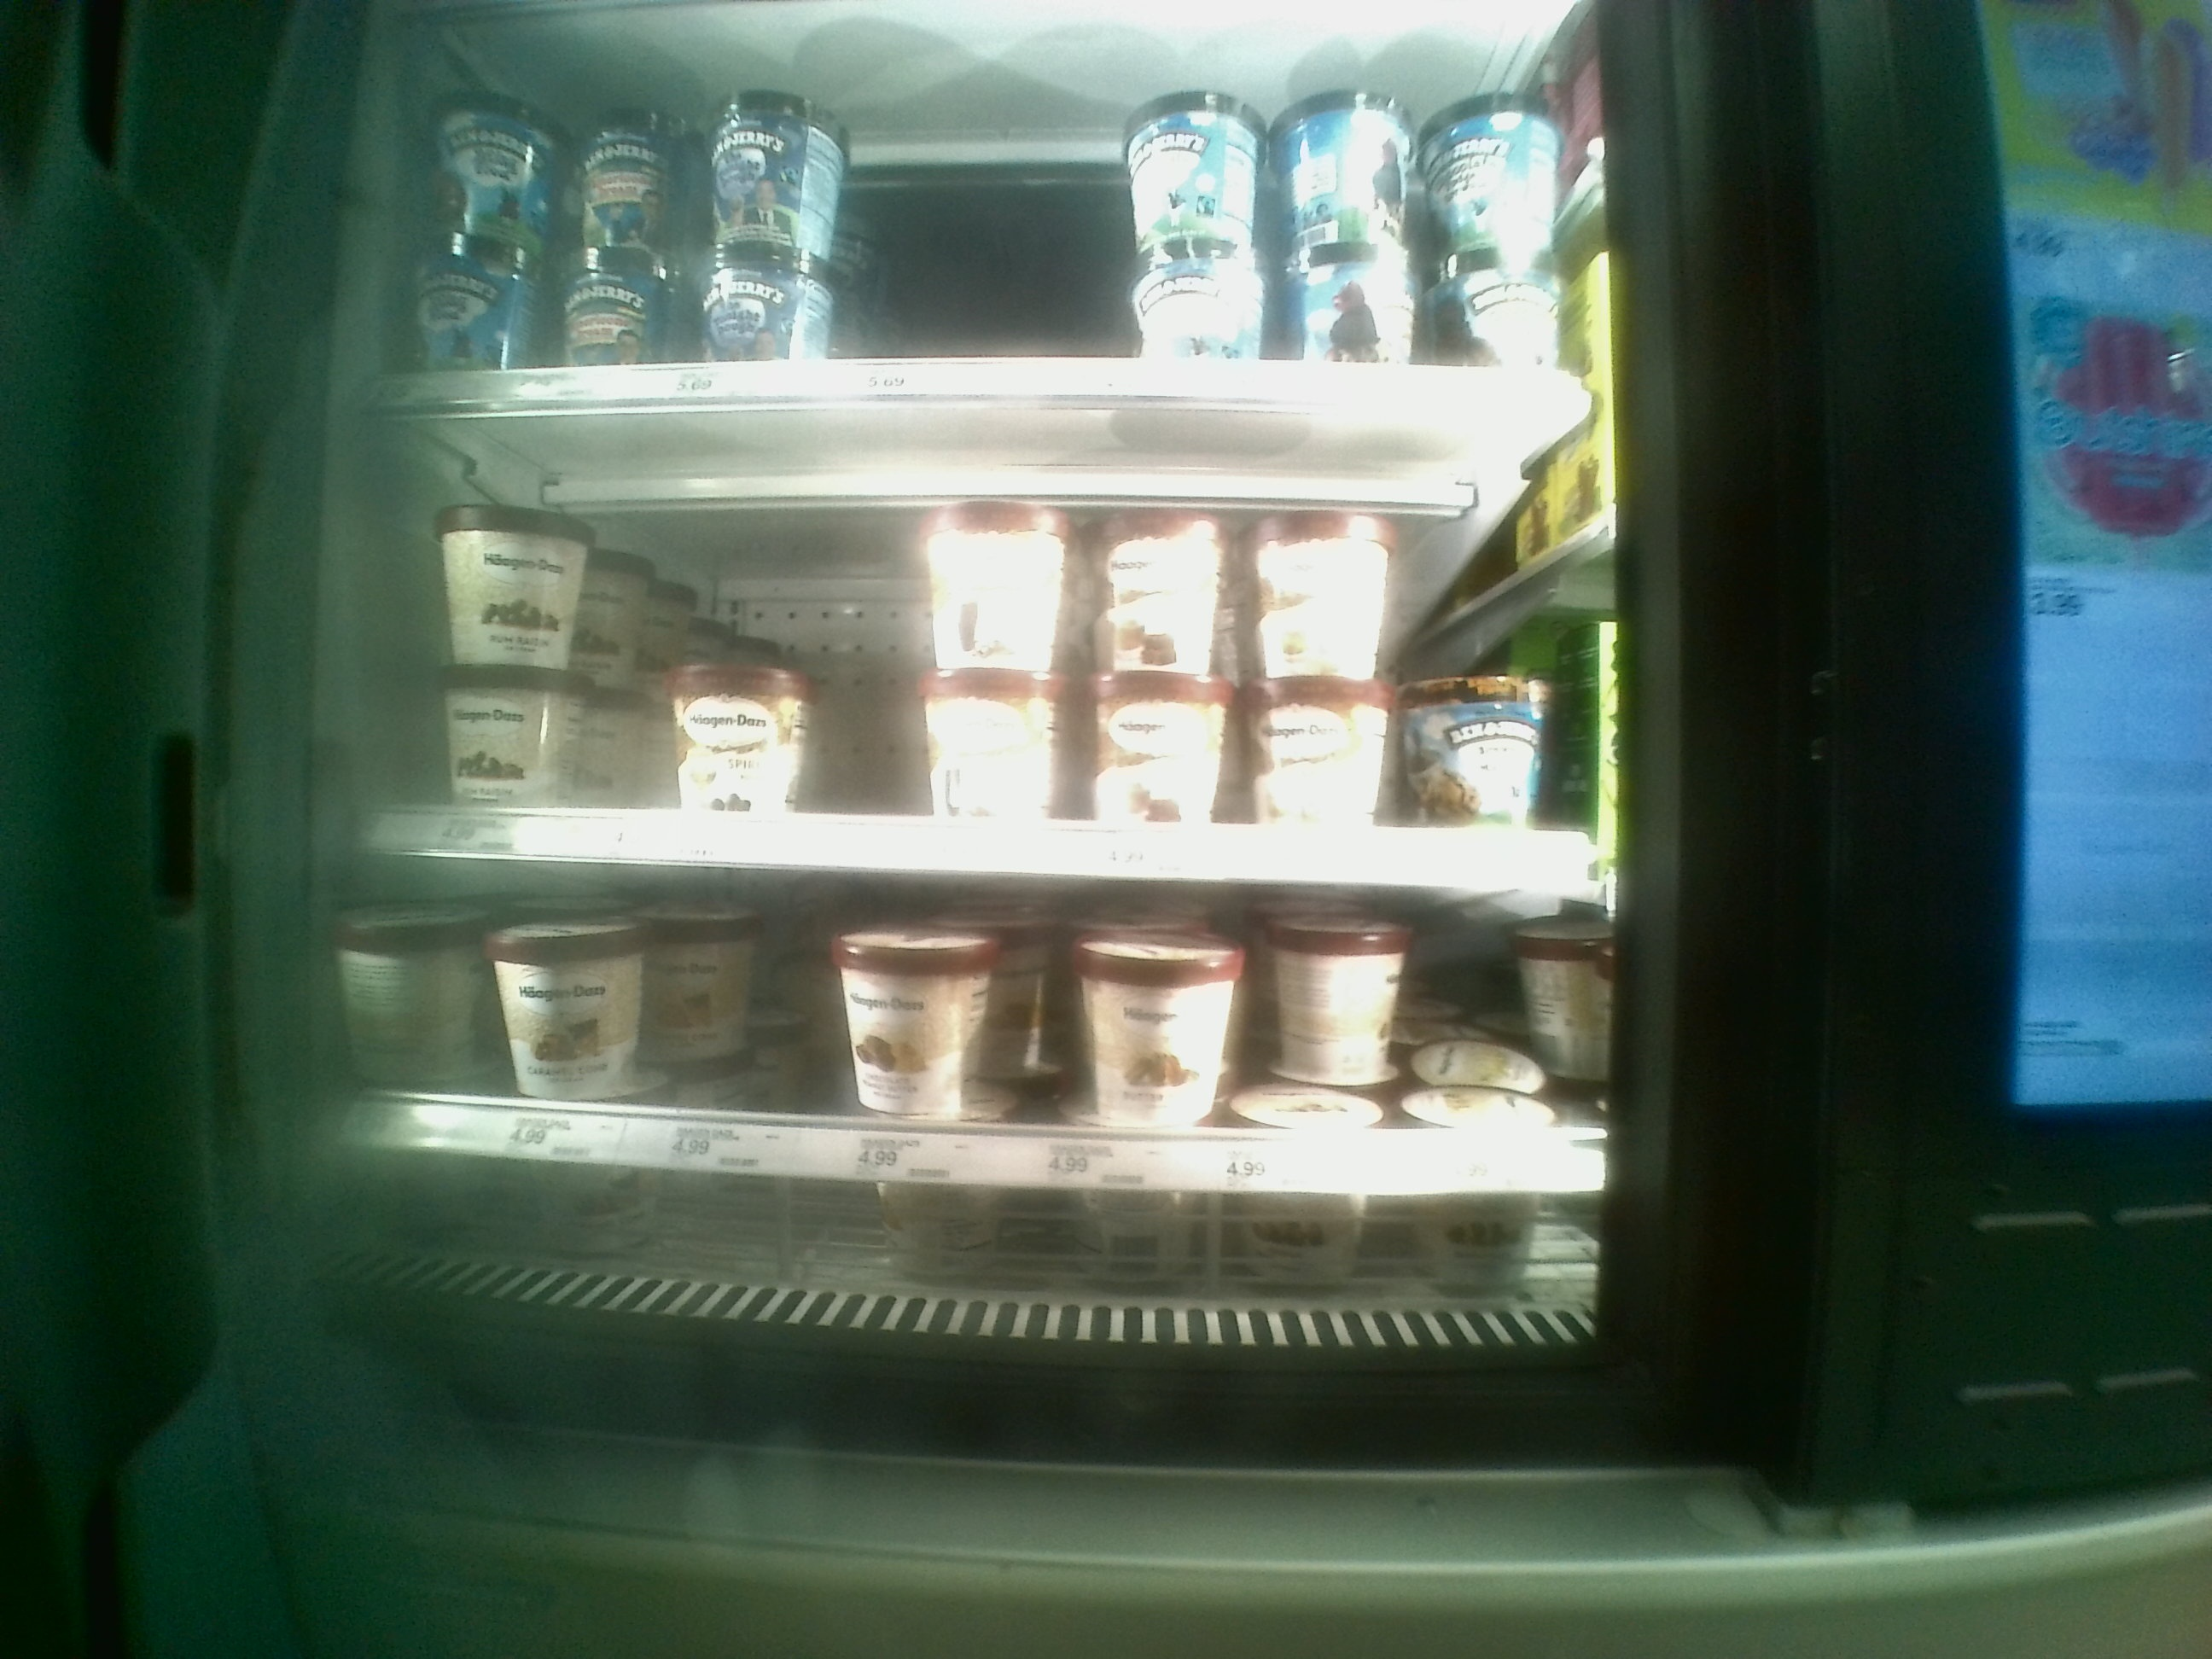shelf: (343, 401, 1609, 889), (350, 864, 1609, 1314)
